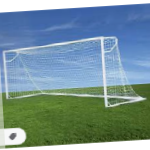goals: (3, 34, 150, 110)
